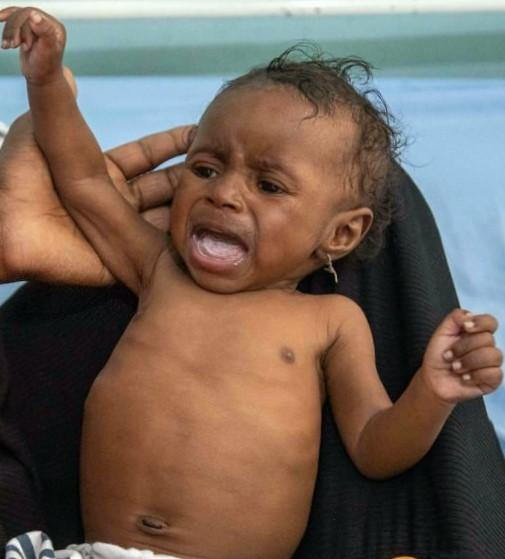Stunting: (136, 39, 407, 333)
